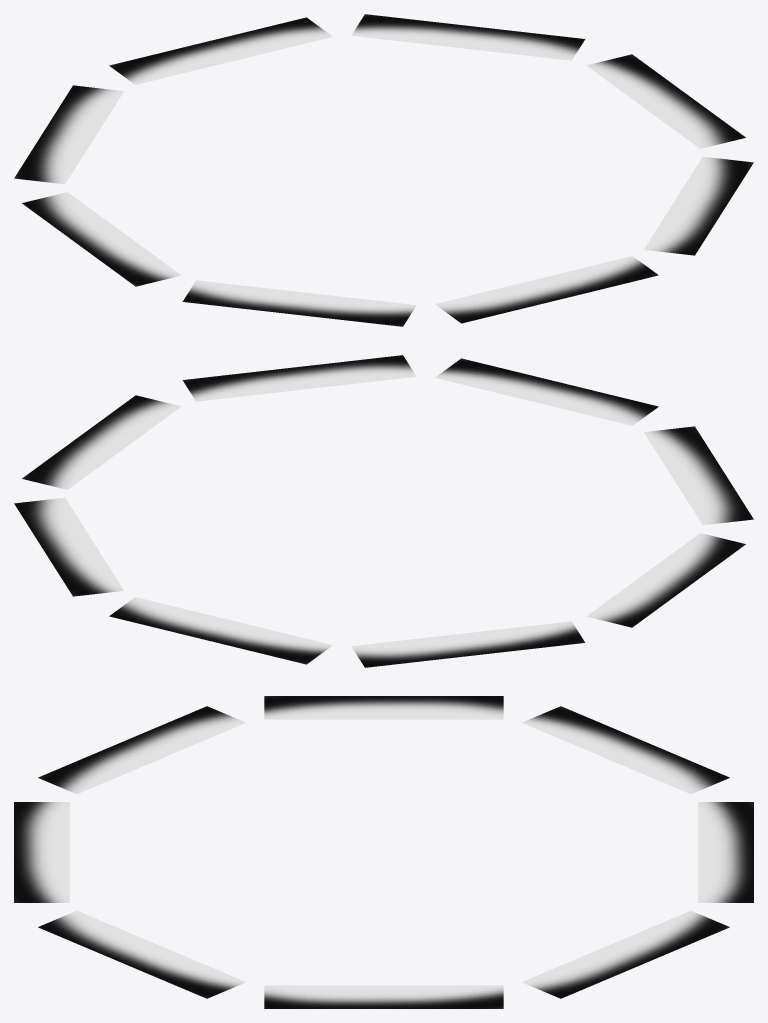
3 renders of one model, top to bottom at view 1: azimuth 30°, elevation 25°; view 2: azimuth 150°, elevation 25°; view 3: azimuth 270°, elevation 25°, orthographic. The views are drawn at different scales.
Visible parts, largest first — view 1: 警告03 (×2), 警告05, 警告02, 警告04, 警告08, 警告06, 警告07; view 2: 警告03 (×2), 警告07, 警告04, 警告08, 警告06, 警告05, 警告02; view 3: 警告03 (×2), 警告05, 警告07, 警告02, 警告06, 警告04, 警告08.
Part boxes in pixels (x1,y1,x2,y2): 警告03 (×2): (586, 54, 753, 255); 警告05: (182, 280, 416, 326); 警告02: (351, 14, 585, 60); 警告04: (435, 256, 658, 323); 警告08: (109, 17, 332, 84); 警告06: (22, 192, 181, 286); 警告07: (14, 85, 123, 184); 警告03 (×2): (22, 355, 416, 489); 警告07: (351, 621, 585, 667); 警告04: (435, 358, 658, 425); 警告08: (109, 597, 332, 664); 警告06: (586, 533, 745, 627); 警告05: (644, 426, 753, 525); 警告02: (14, 497, 123, 596); 警告03 (×2): (38, 911, 503, 1008); 警告05: (38, 706, 245, 793); 警告07: (522, 706, 729, 793); 警告02: (522, 911, 729, 998); 警告06: (264, 696, 503, 719); 警告04: (14, 802, 69, 902); 警告08: (698, 802, 753, 902).
Size of the model in its own units: 2320 by 0.000728 by 2320.
